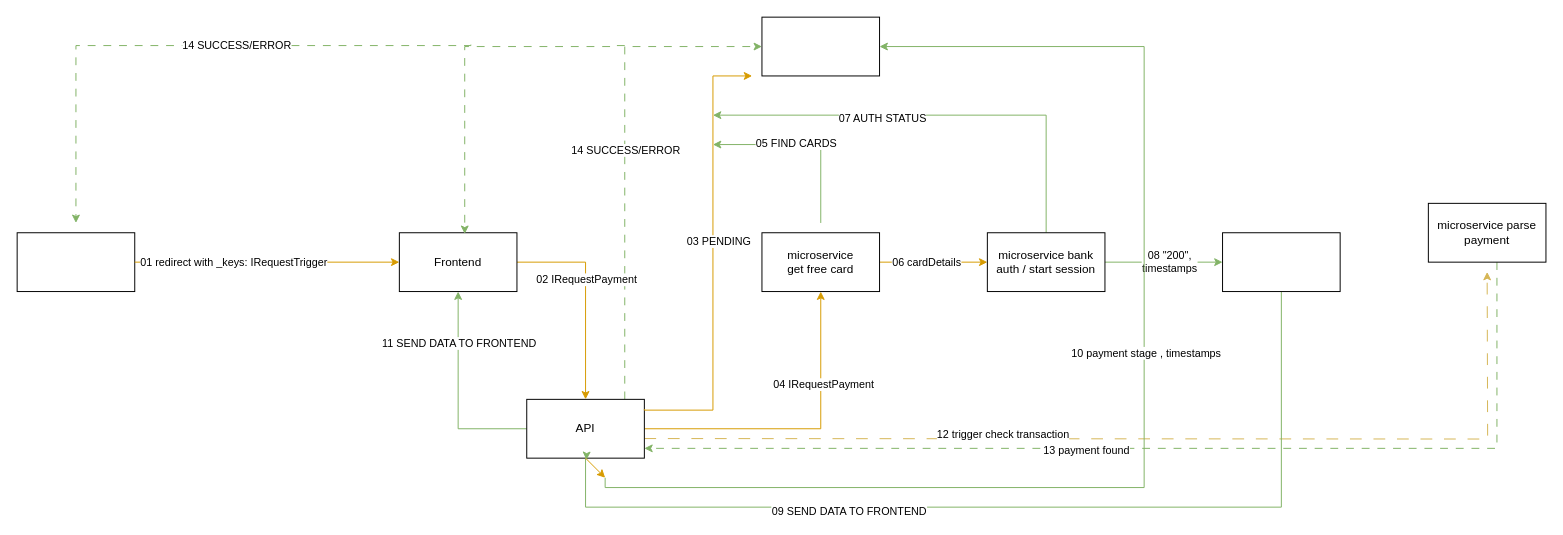
Some shapes in this 1563 by 535 pixel diagram are drawn without their labels. The centre of each missing label's shape, as x and y in pixels:
merchant: the point at 75,262
microservice send data trigger payment: the point at 1281,262
POSTGRESQL: the point at 820,46
